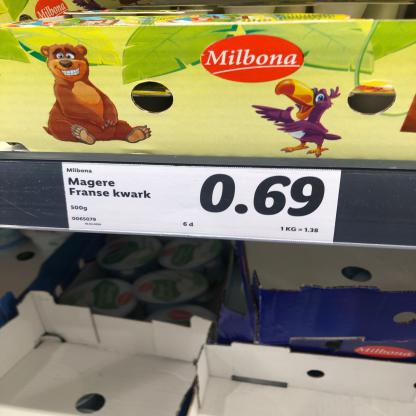prtg: (62, 163, 343, 245)
